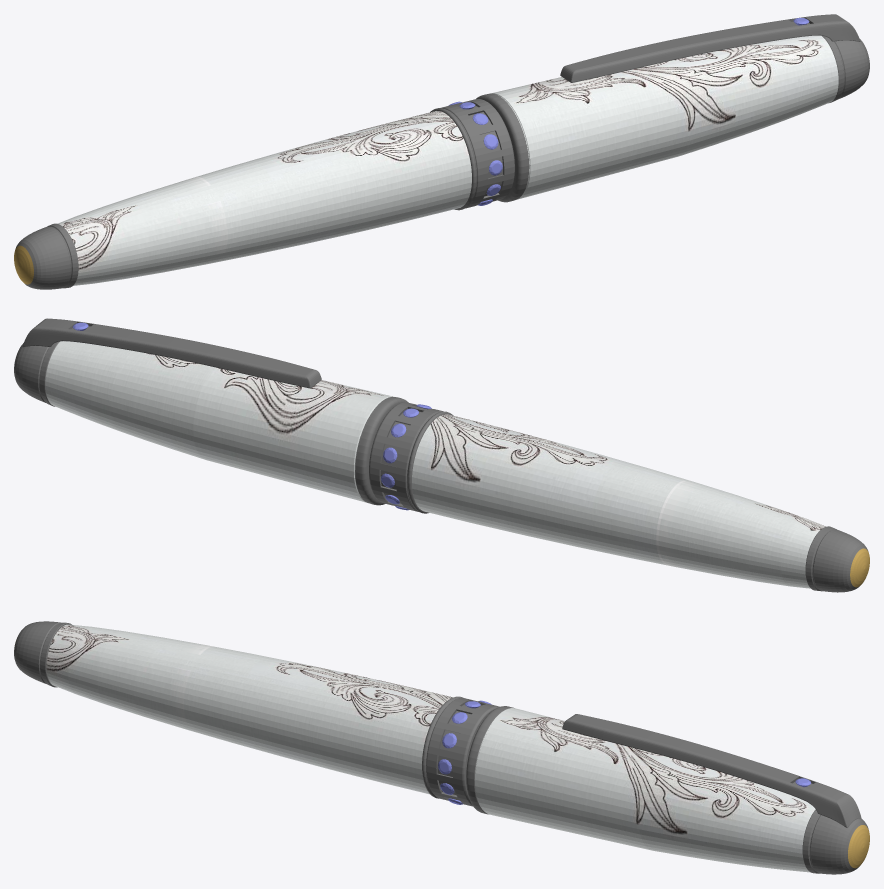
The model's file is Pen 1.obj.
The picture shows the model from 3 angles, top to bottom: view 1: azimuth 30°, elevation 25°; view 2: azimuth 150°, elevation 25°; view 3: azimuth 330°, elevation 25°; orthographic projection.
Visible parts, largest first — view 1: corps_stylo010, corps_stylo007, corps_stylo008, corps_stylo011, diamant026; view 2: corps_stylo010, corps_stylo007, corps_stylo008, corps_stylo011, diamant026; view 3: corps_stylo010, corps_stylo007, corps_stylo008, corps_stylo011, diamant026.
Part boxes in pixels (x1=…): corps_stylo010: x1=476, y1=14, x2=869, y2=202; corps_stylo007: x1=58, y1=111, x2=471, y2=285; corps_stylo008: x1=430, y1=99, x2=514, y2=210; corps_stylo011: x1=14, y1=223, x2=78, y2=289; diamant026: x1=448, y1=101, x2=502, y2=205; corps_stylo010: x1=14, y1=318, x2=408, y2=505; corps_stylo007: x1=412, y1=414, x2=825, y2=588; corps_stylo008: x1=369, y1=402, x2=453, y2=513; corps_stylo011: x1=805, y1=526, x2=869, y2=592; diamant026: x1=381, y1=404, x2=431, y2=510; corps_stylo010: x1=466, y1=706, x2=869, y2=874; corps_stylo007: x1=46, y1=624, x2=453, y2=794; corps_stylo008: x1=422, y1=696, x2=499, y2=806; corps_stylo011: x1=14, y1=621, x2=71, y2=687; diamant026: x1=438, y1=700, x2=491, y2=804.
Bounding box in the file's own units: 130 × 16.32 × 14.62.
